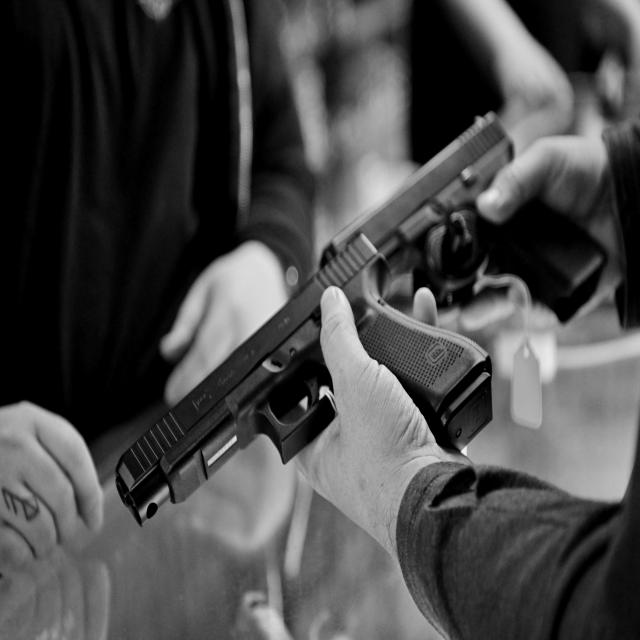Weapon: (116, 233, 491, 525)
